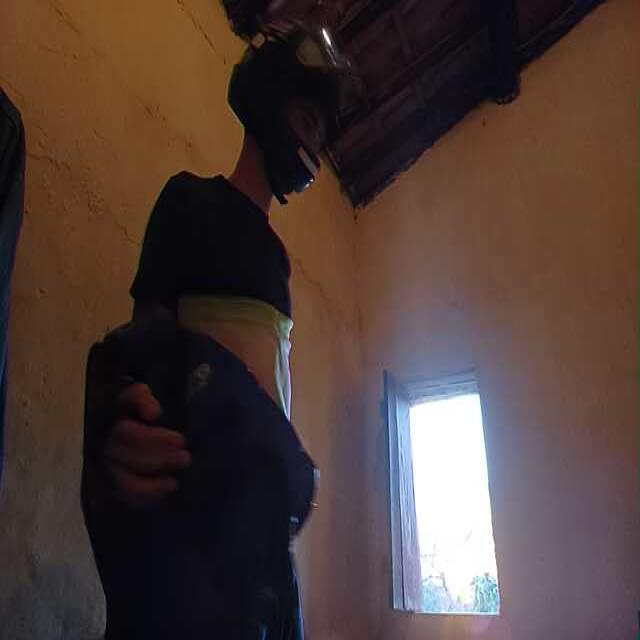capacete: (230, 15, 352, 200)
colete: (82, 323, 311, 617)
pessoa: (122, 87, 333, 640)
